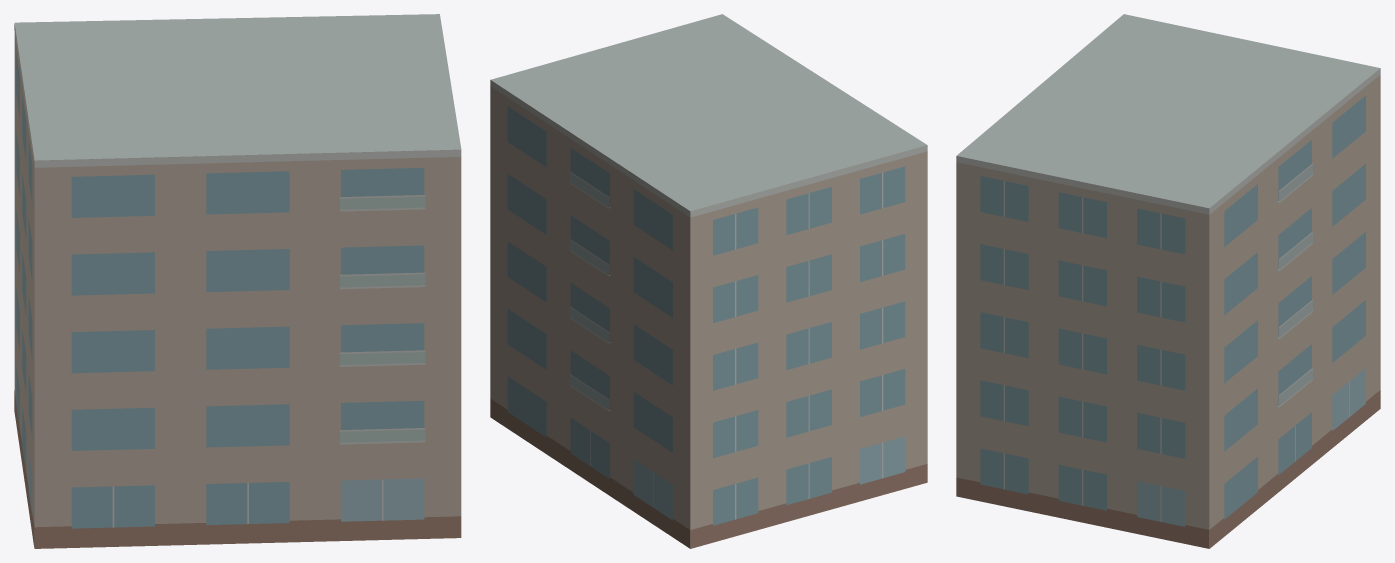
File: survey-upis-32484848.glb
3 views of the same model, side by side, from view 1: azimuth 30°, elevation 25°; view 2: azimuth 150°, elevation 25°; view 3: azimuth 270°, elevation 25° (orthographic). The views are drawn at different scales.
Visible parts, largest first — view 1: survey-upis-32484848.tmp; view 2: survey-upis-32484848.tmp; view 3: survey-upis-32484848.tmp.
Part boxes in pixels (<box>): survey-upis-32484848.tmp: <box>14,14,461,548</box>; survey-upis-32484848.tmp: <box>490,14,927,548</box>; survey-upis-32484848.tmp: <box>956,14,1380,548</box>.
Bounding box in the file's own units: 16.04 × 13.1 × 14.8.
